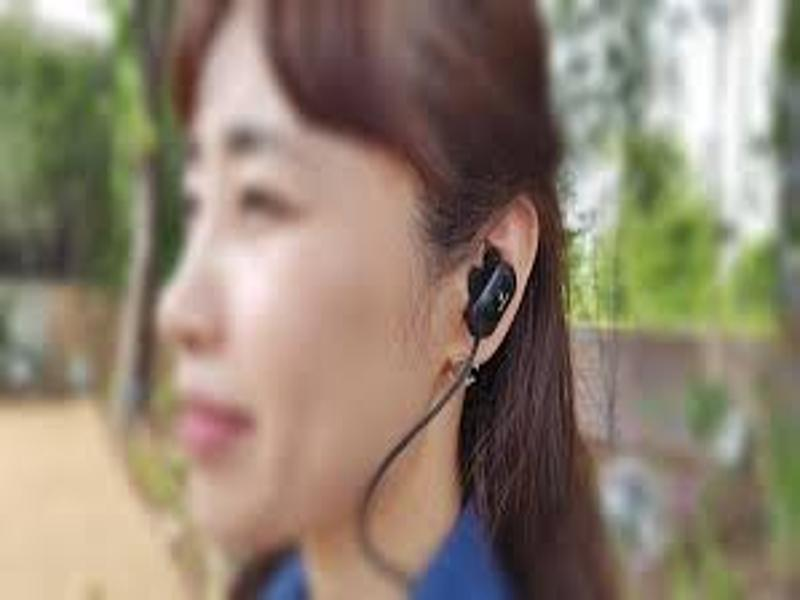headphone: (462, 249, 516, 339)
